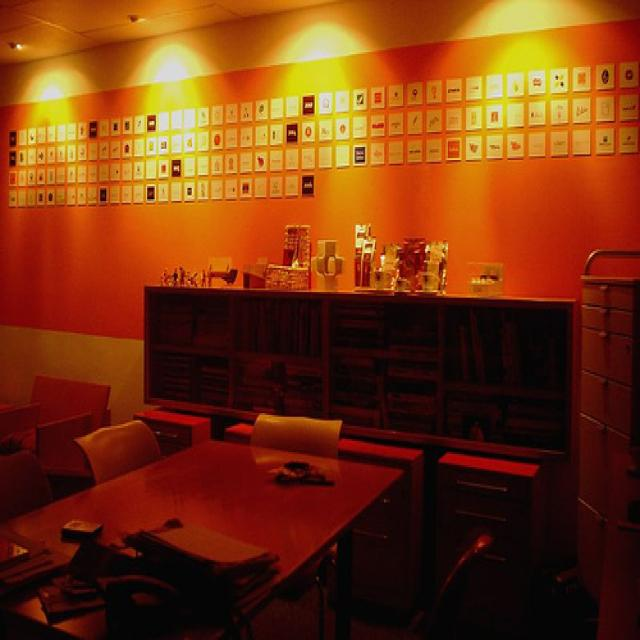Table: (0, 430, 422, 640)
chair: (237, 383, 365, 475), (76, 410, 173, 482)
